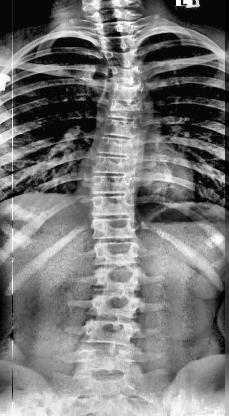Vertebrae: (76, 347, 140, 377), (81, 318, 141, 346), (88, 292, 144, 317), (92, 266, 148, 290), (94, 242, 142, 269), (88, 194, 140, 218), (94, 218, 142, 242), (106, 100, 148, 122), (103, 117, 144, 137), (107, 64, 144, 86), (102, 47, 142, 67), (91, 176, 137, 192), (96, 138, 138, 154), (96, 157, 138, 173), (100, 35, 140, 51), (108, 84, 148, 100)
